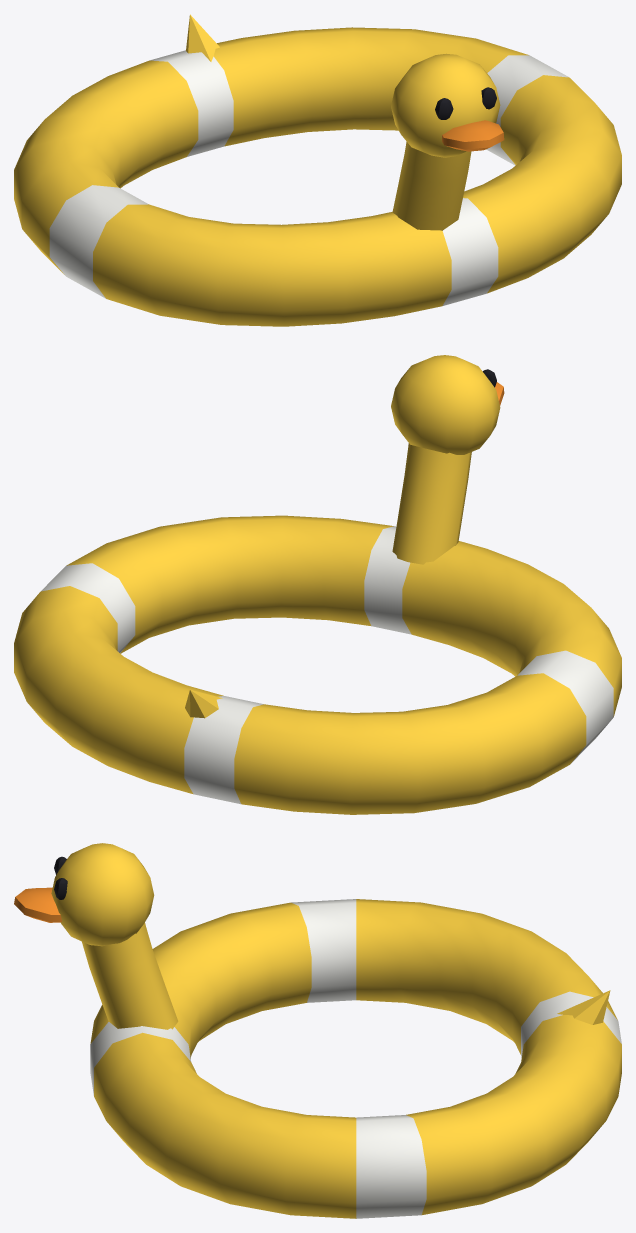
Rendered from FlotadorPato.fbx.
3 views of the same model, one above another, from view 1: azimuth 30°, elevation 25°; view 2: azimuth 150°, elevation 25°; view 3: azimuth 270°, elevation 25° (orthographic).
Parts seen in each view (by area): view 1: FlotadorPato; view 2: FlotadorPato; view 3: FlotadorPato.
Part boxes in pixels (x1,y1,x2,y2): FlotadorPato: [14, 14, 621, 326]; FlotadorPato: [14, 355, 621, 814]; FlotadorPato: [14, 843, 621, 1218].
Size of the model in its own units: 1.67 by 0.77 by 1.65.
Materials: 1 (1 with a texture image).
